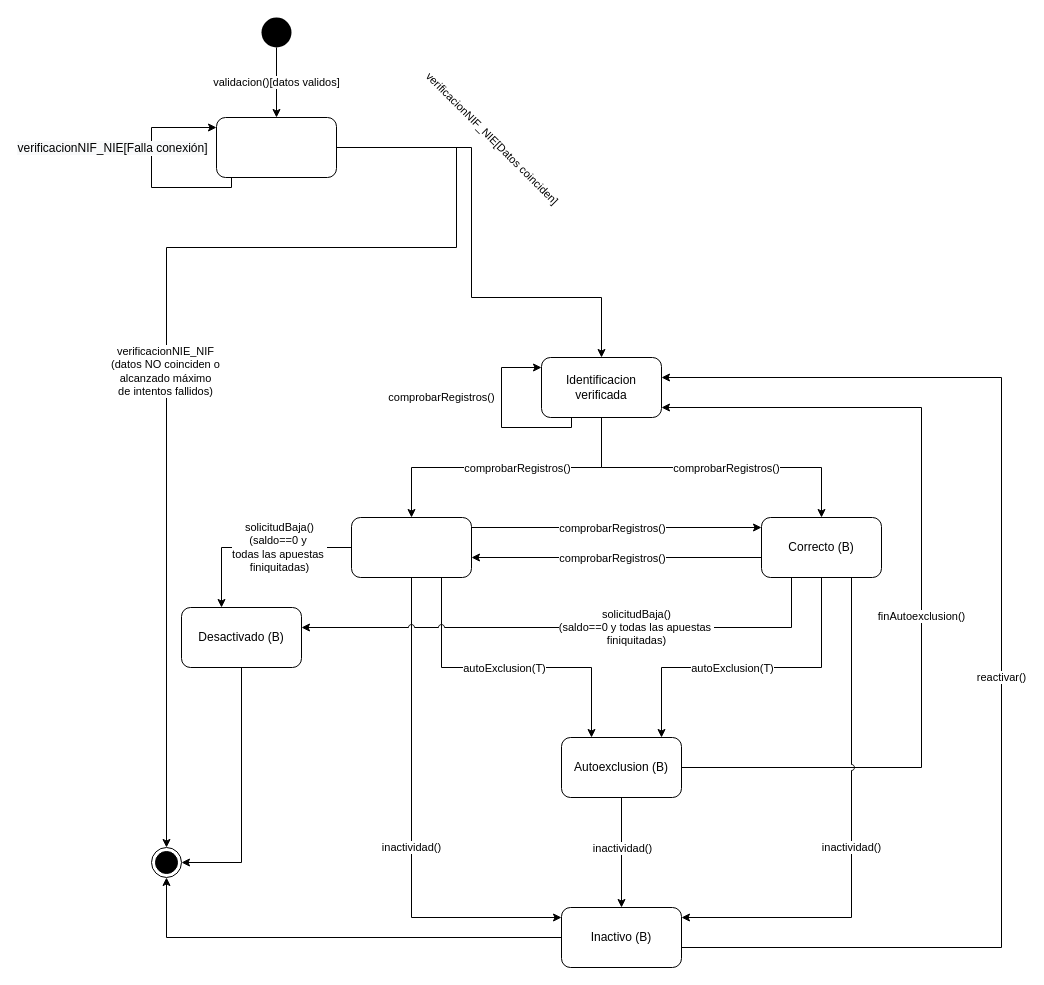
This 1044x985 diagram has some shape labels left out. Each missing label, with the centre of its shape:
"Identidad no verificada" belongs at point 276,147.
"Prohibicion (B)" belongs at point 411,547.
